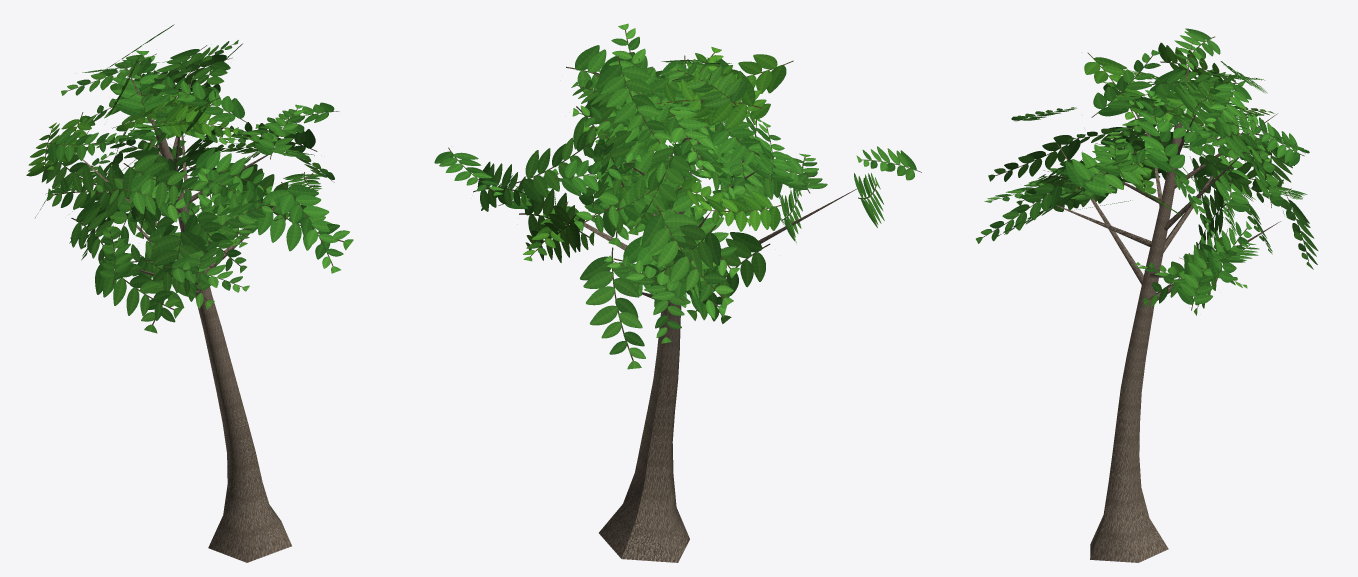
The model's file is copa_g_b_lo.glb.
The picture shows the model from 3 angles, left to right: view 1: azimuth 30°, elevation 25°; view 2: azimuth 150°, elevation 25°; view 3: azimuth 270°, elevation 25°; orthographic projection. The views are drawn at different scales.
Visible parts, largest first — view 1: copa_g_b_lo; view 2: copa_g_b_lo; view 3: copa_g_b_lo.
Boxes of the visible parts, box(x1,y1,x2,y2) form: copa_g_b_lo: box(26, 24, 353, 562); copa_g_b_lo: box(434, 23, 921, 562); copa_g_b_lo: box(976, 28, 1318, 562).
Bounding box in the file's own units: 7.37 × 9.6 × 6.73.
Materials: 2 (2 with a texture image).
